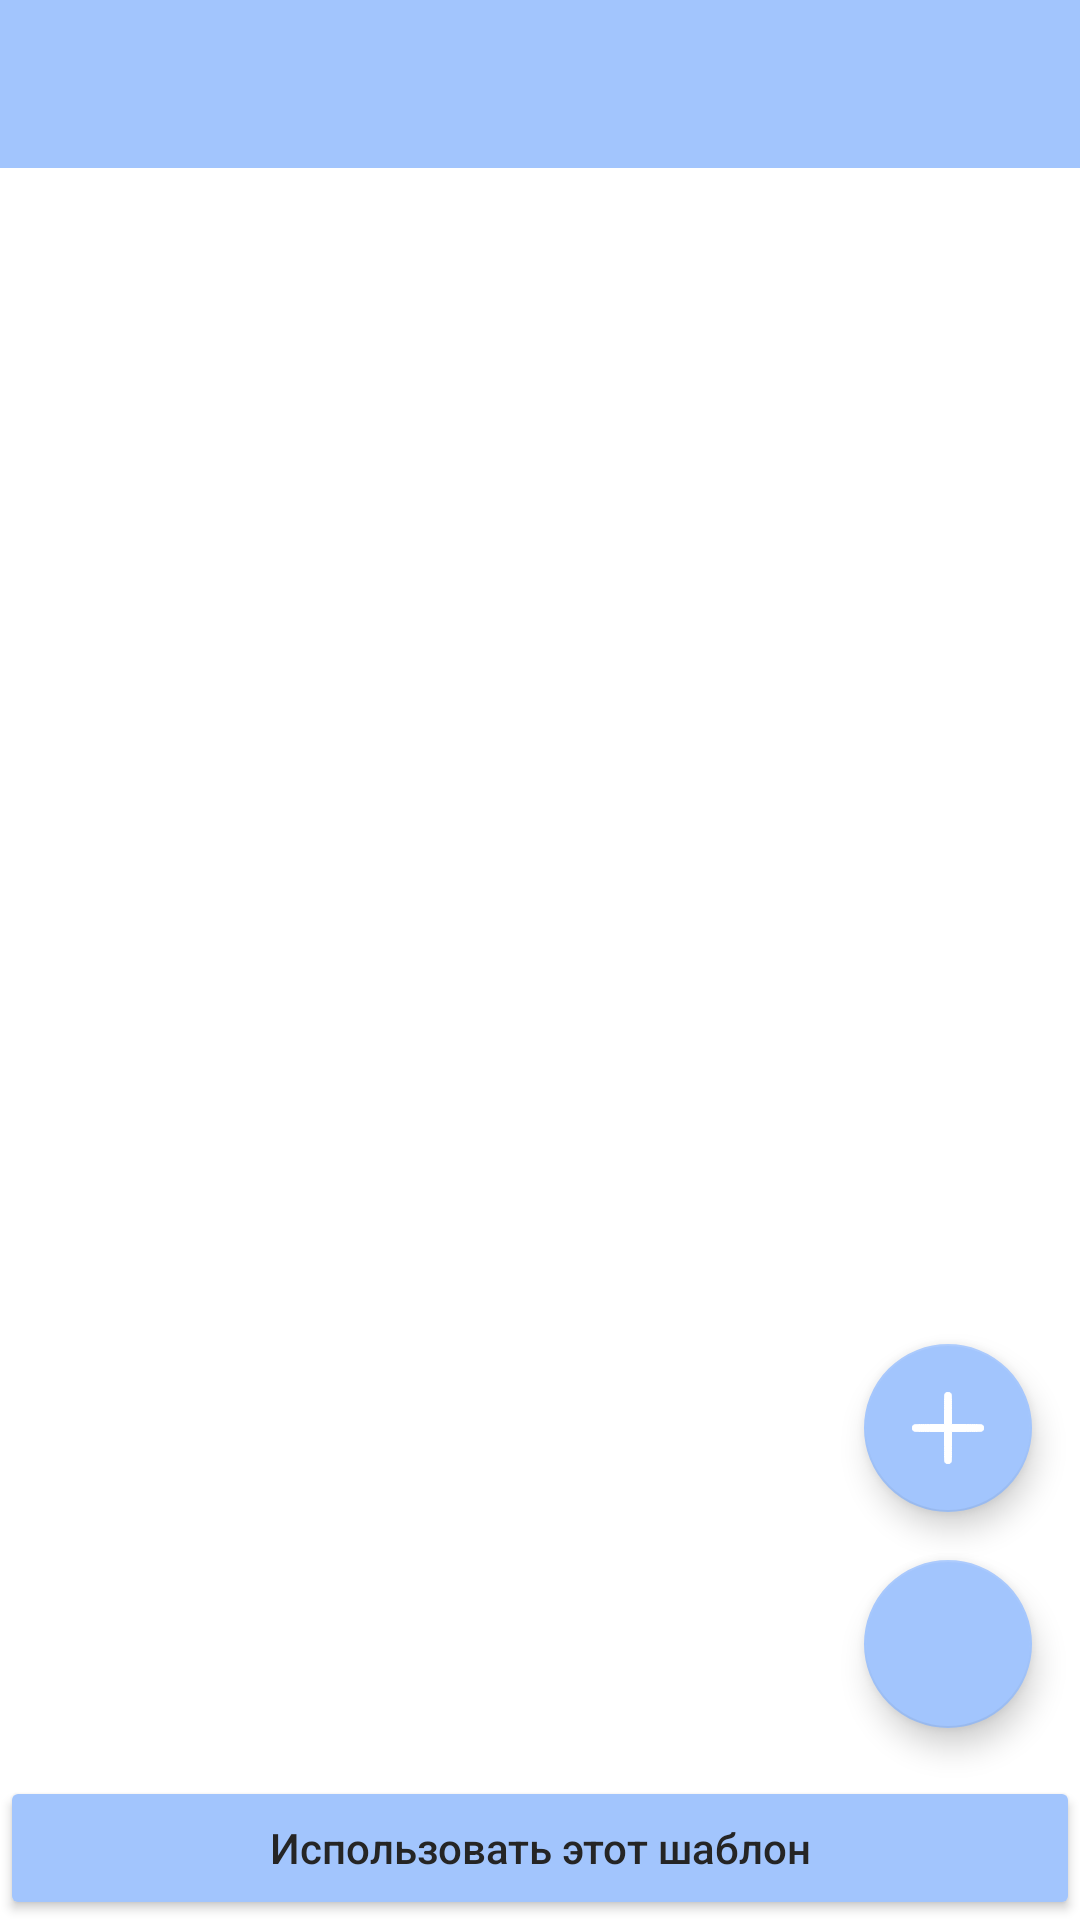

Screen size 1080px×1920px. Icon name, then its box in pixels as bbox(x1, y1, x2, y2):
add: bbox(864, 1344, 1032, 1512)
